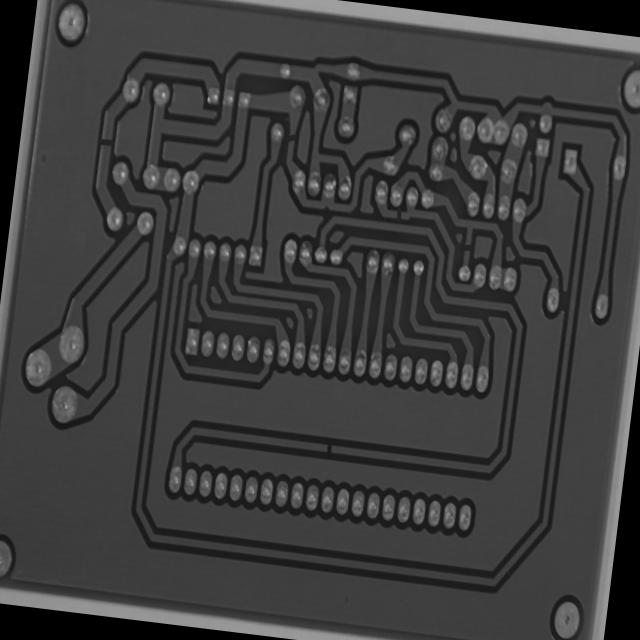open_circuit: (97, 132, 114, 152), (283, 129, 298, 146), (322, 438, 335, 456), (461, 238, 474, 255), (392, 206, 405, 222)
